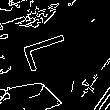L_E: (19, 32, 80, 78)
